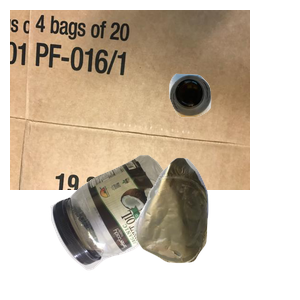cardboard: (10, 10, 250, 190)
glass: (166, 71, 300, 181)
plastic: (48, 152, 228, 300)
trash: (131, 155, 300, 300)
